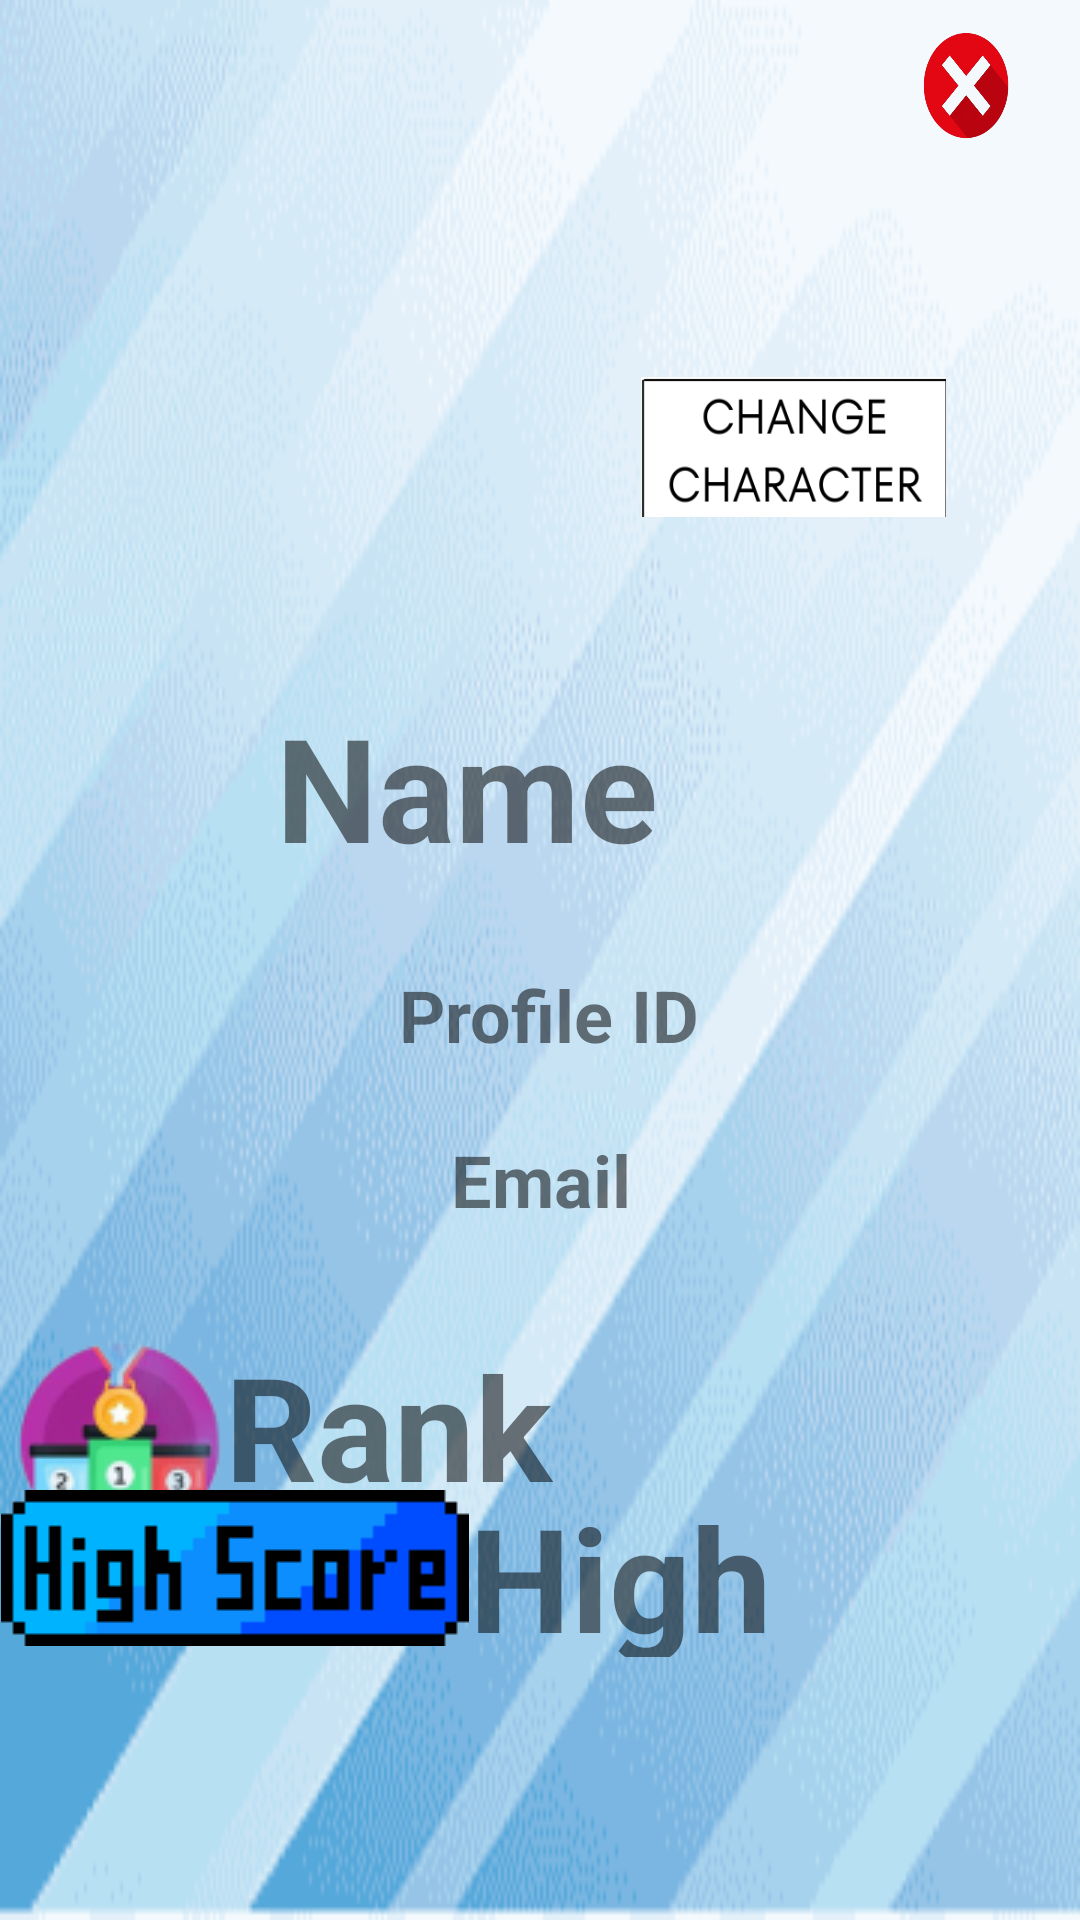

Screen size 1080x1920. Icon name, then its center in pixels as point (x, y):
Exit Profile page and return to Home Menu: point (966, 85)
